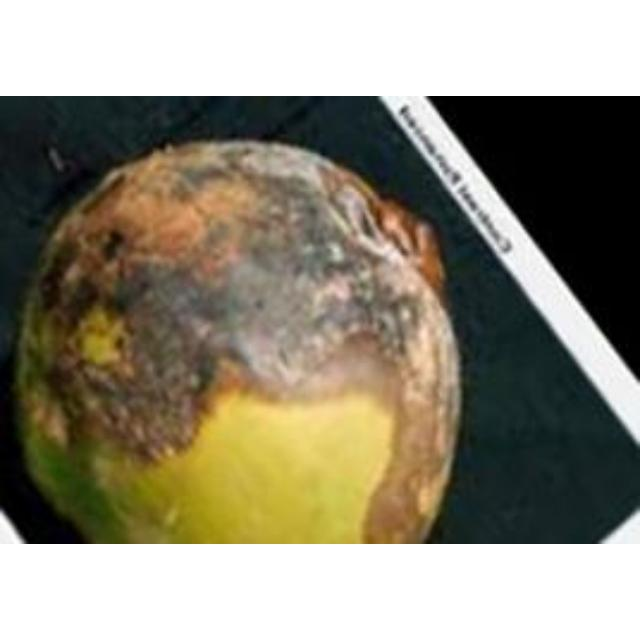damaged: (10, 137, 463, 543)
